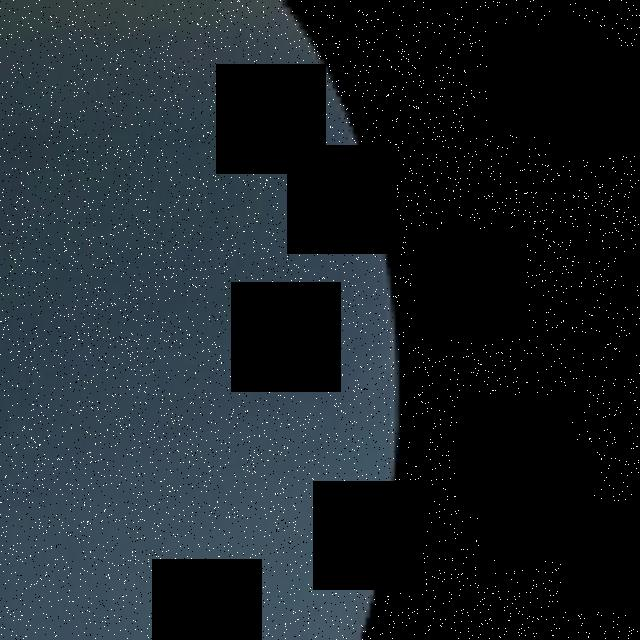Uranus: (0, 0, 399, 640)
